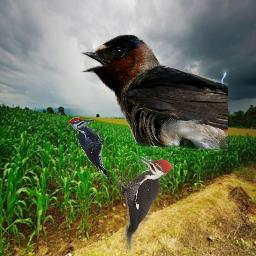Swallow: (80, 34, 228, 151)
Woodpecker: (114, 156, 174, 253), (68, 117, 109, 180)
